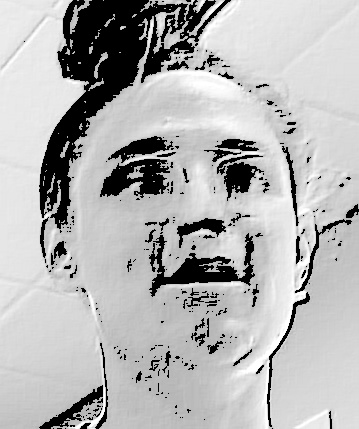nose_M_C: (172, 177, 227, 253)
